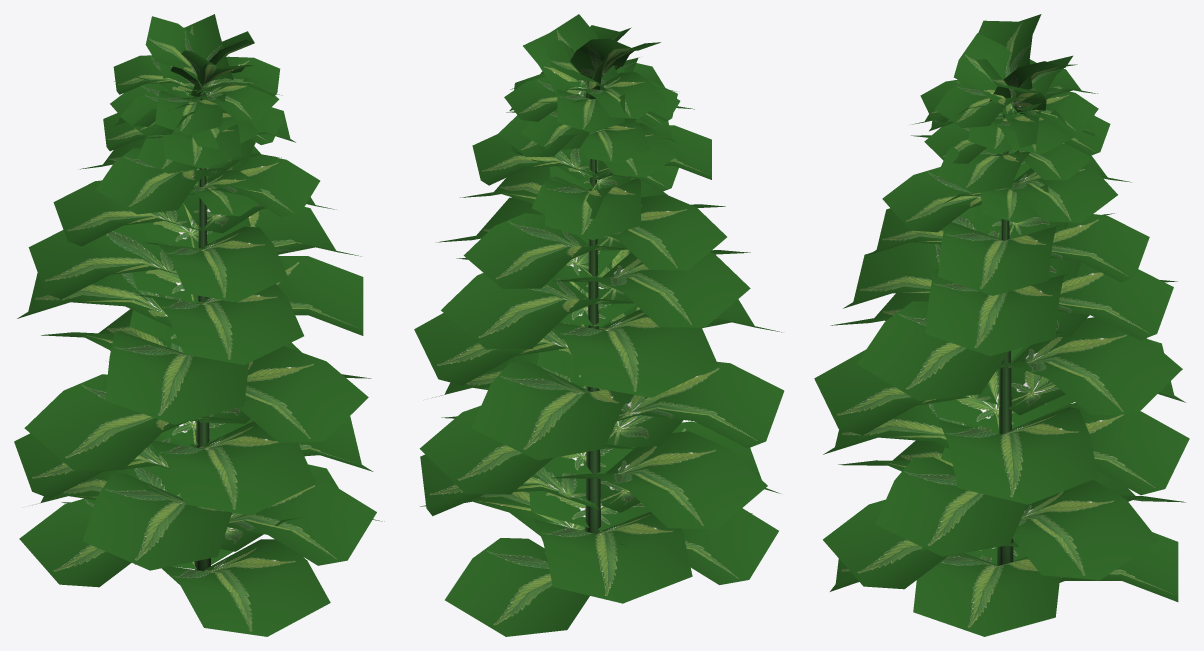
File: weed2.FBX
3 renders of one model, left to right at view 1: azimuth 30°, elevation 25°; view 2: azimuth 150°, elevation 25°; view 3: azimuth 270°, elevation 25°, orthographic. The views are drawn at different scales.
Parts seen in each view (by area): view 1: weed2; view 2: weed2; view 3: weed2.
Part boxes in pixels (x1=…): weed2: x1=14, y1=14, x2=384, y2=636; weed2: x1=414, y1=14, x2=784, y2=636; weed2: x1=814, y1=14, x2=1189, y2=636.
Size of the model in its own units: 2.66 by 4.5 by 2.66.
